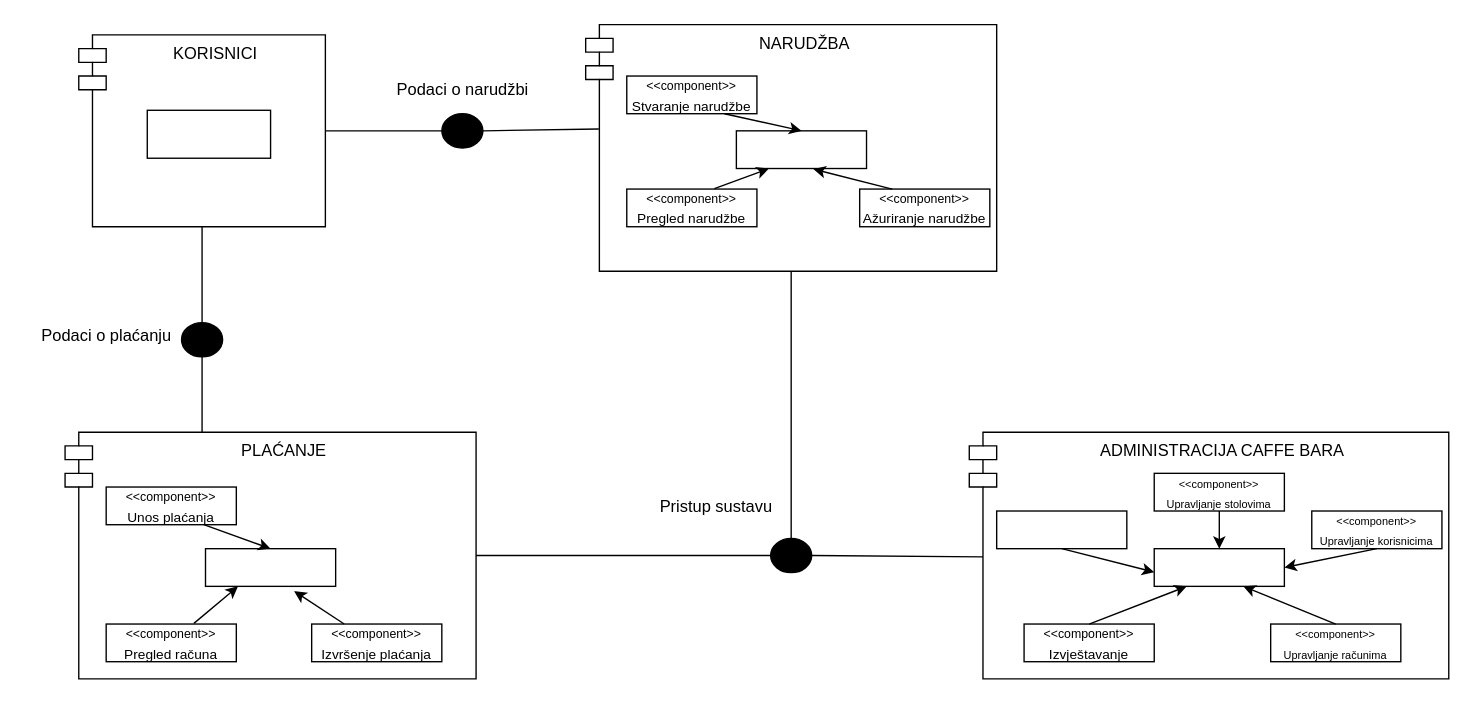
The diagram is 1473 pixels wide and 703 high, and some of its shapes have lost their labels. The centre of each missing label's shape, as x and y in pixels:
<< component>> Upravljanje proizvodima: point (1061, 529)
<<component>> Administrator: point (1218, 566)
<<component>> Korisnik: point (208, 133)
<<component>> Narudžba: point (801, 149)
<<component>> Plaćanje: point (270, 566)
